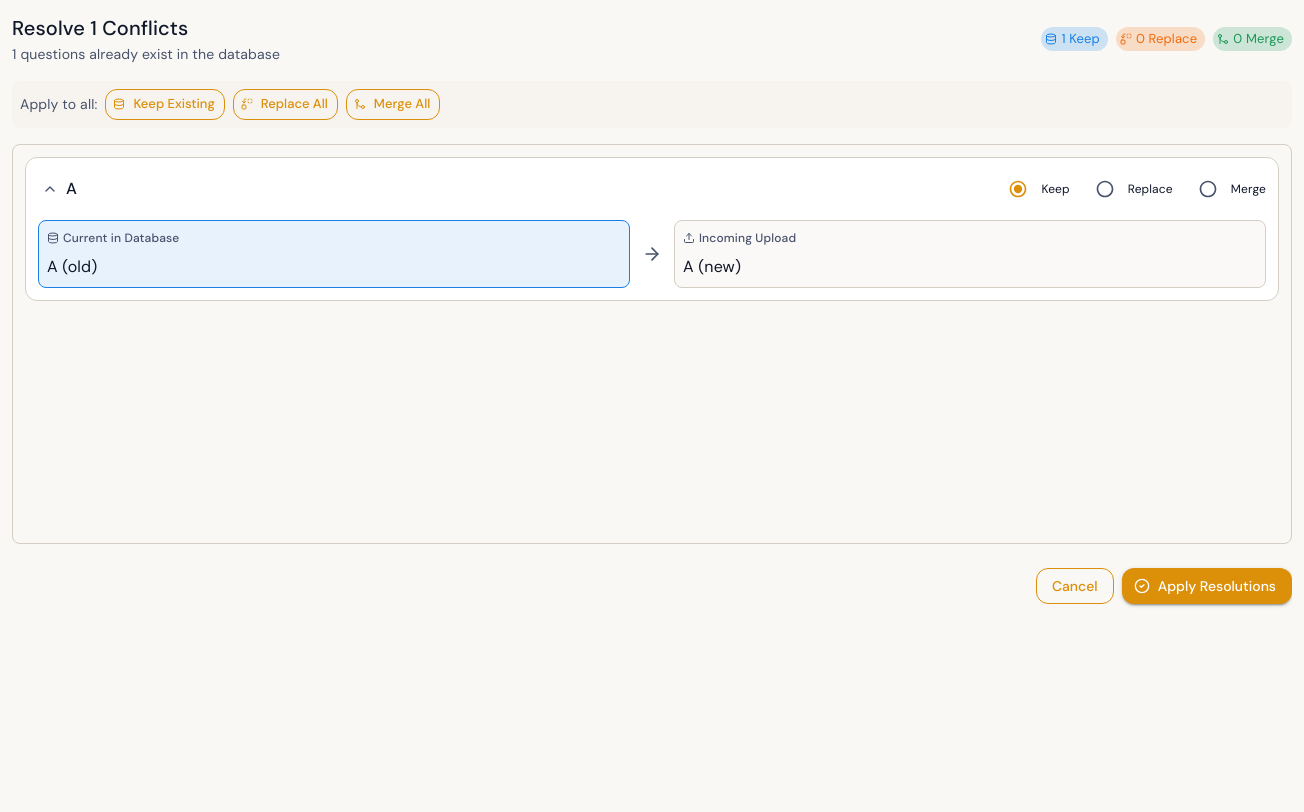
Test: ConflictResolutionDialog › shows the merged result in place of the incoming one once merge is chosen
The width and height of the screenshot is (1304, 812).
Check: the text "A (new)" is shown, box x1=683 y1=256 x2=741 y2=277
Click the radio button labelled "Merge".
click(1232, 189)  # box x1=1198 y1=179 x2=1266 y2=199
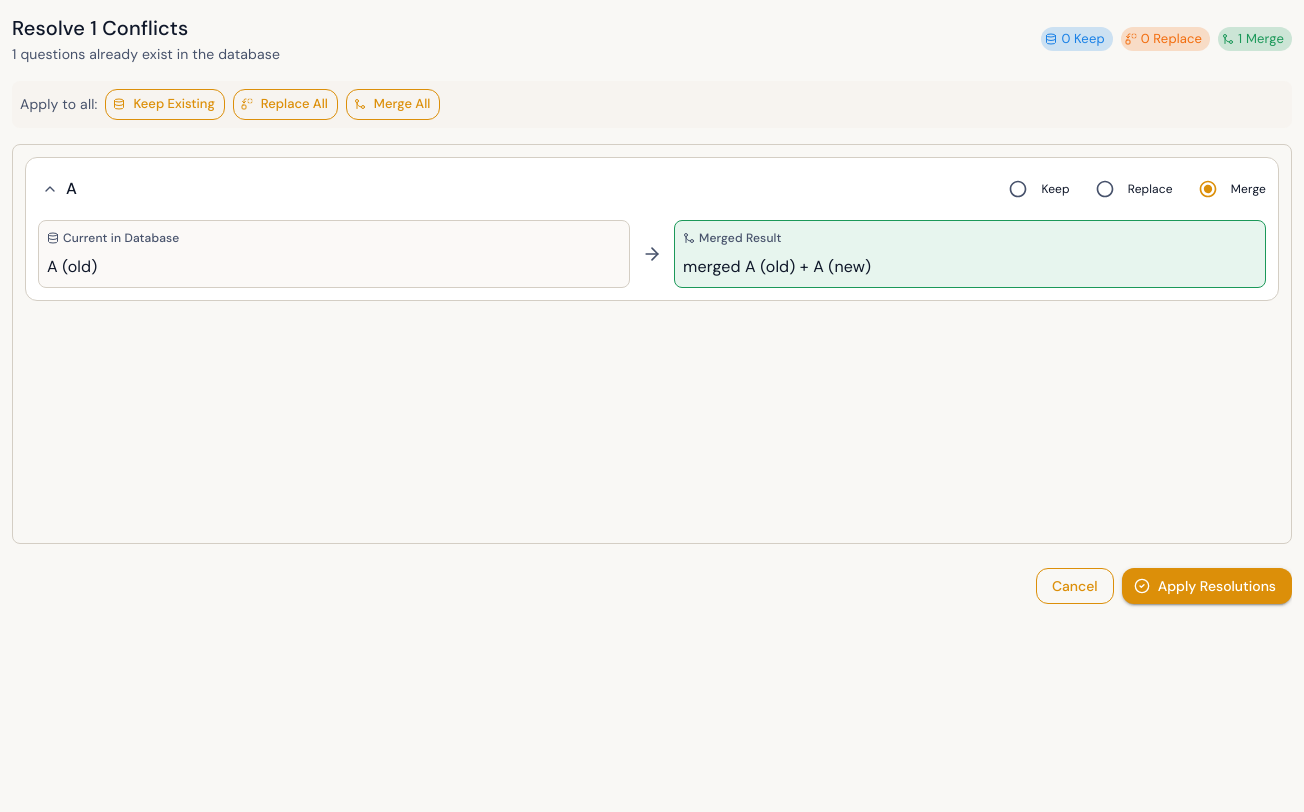
Check: the text "merged A (old) + A (new)" is shown, box x1=683 y1=256 x2=871 y2=277
